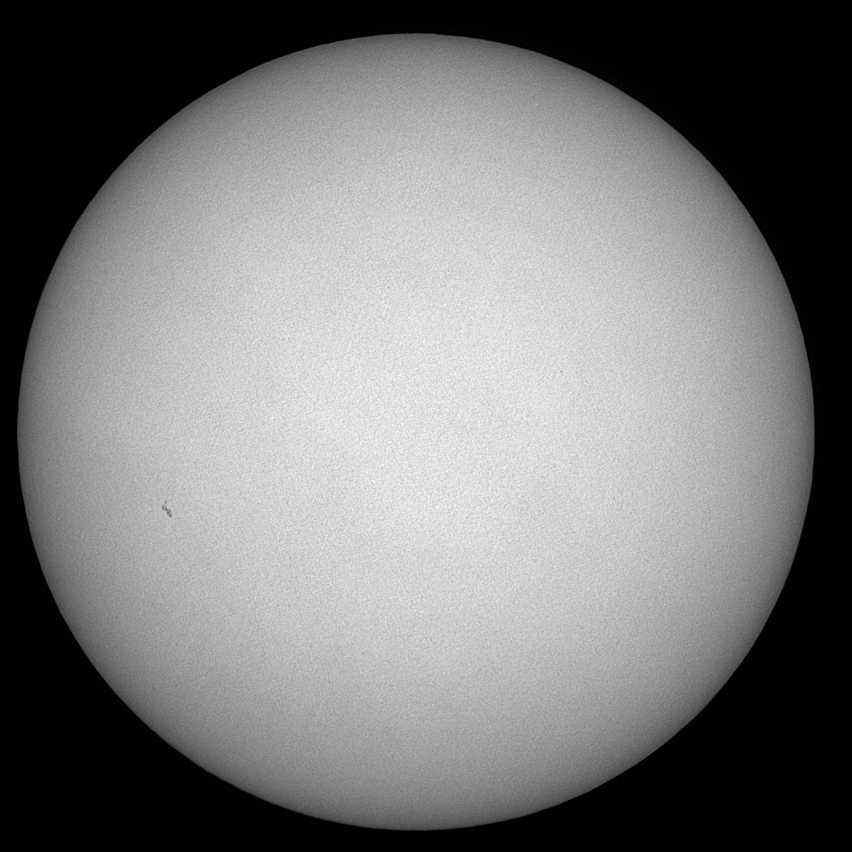sunspot: (156, 495, 175, 520)
